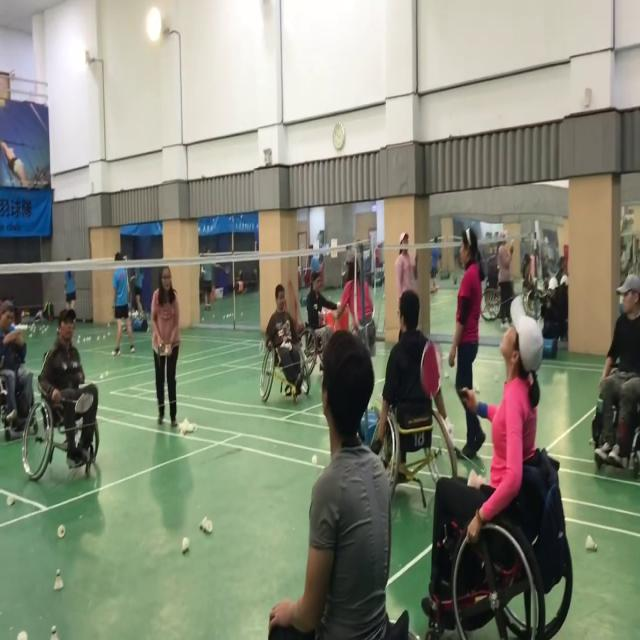wheelchairs: (414, 398, 577, 640), (360, 344, 474, 510), (12, 341, 111, 487), (588, 283, 640, 477), (244, 292, 316, 423), (298, 286, 340, 386)
